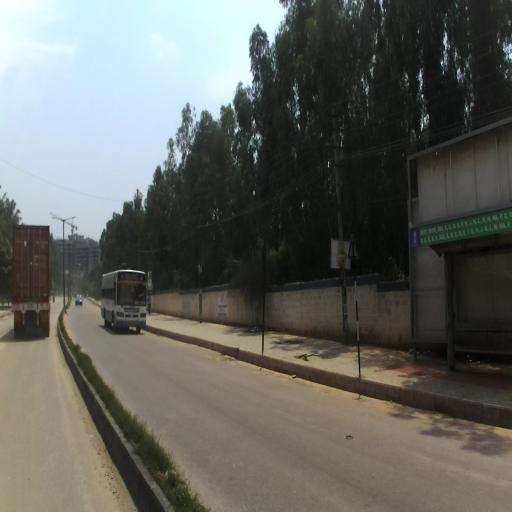street_light_0: (63, 216, 76, 223), (51, 217, 64, 222)
